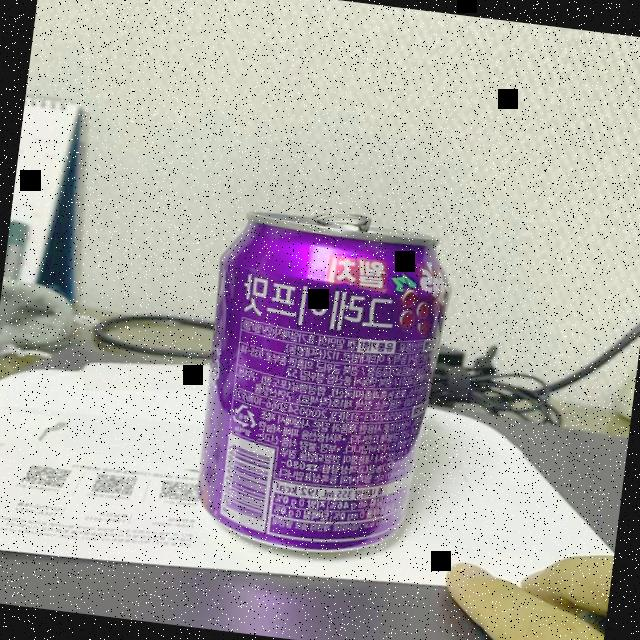can: (184, 197, 450, 568)
